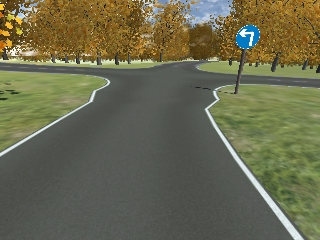left: (235, 24, 262, 49)
